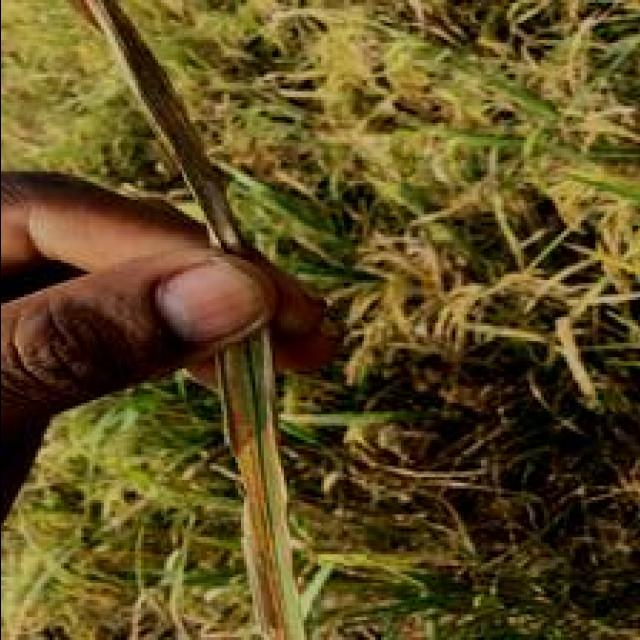Bacterial_Leaf_Blight: (80, 17, 337, 634)
